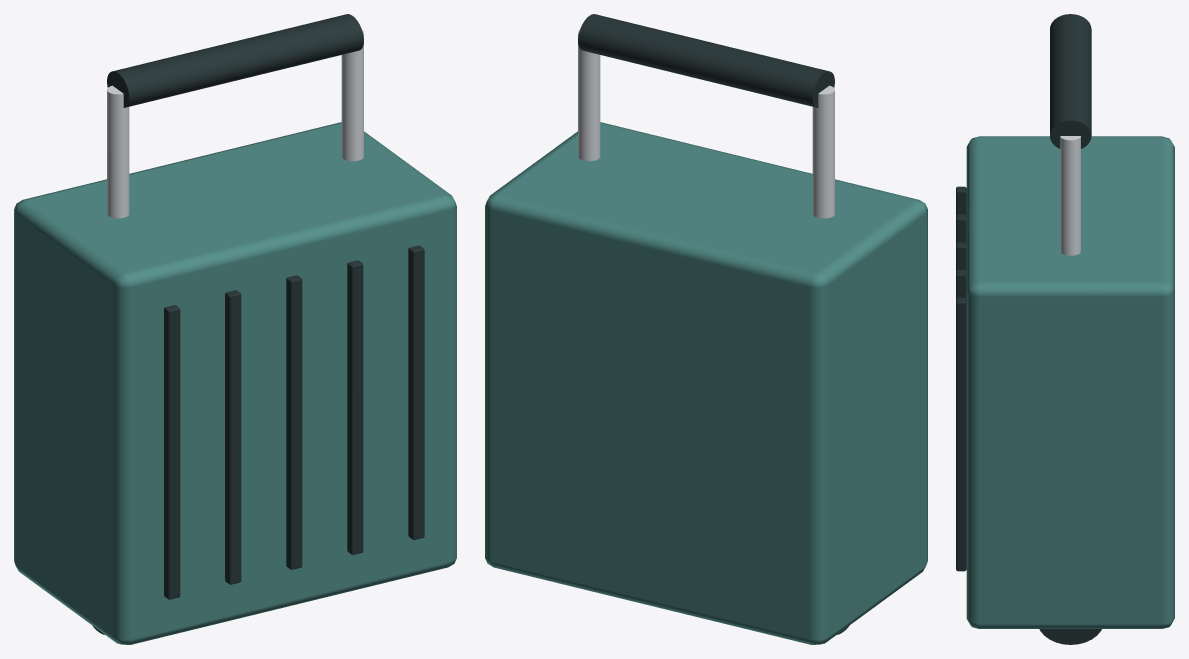
The model's file is wp-valise-a-roulettes.glb.
The picture shows the model from 3 angles, left to right: view 1: azimuth 30°, elevation 25°; view 2: azimuth 150°, elevation 25°; view 3: azimuth 270°, elevation 25°; orthographic projection. The views are drawn at different scales.
Visible parts, largest first — view 1: wp-valise-a-roulettes; view 2: wp-valise-a-roulettes; view 3: wp-valise-a-roulettes.
Part boxes in pixels (<box>): wp-valise-a-roulettes: <box>14,14,456,644</box>; wp-valise-a-roulettes: <box>485,14,927,644</box>; wp-valise-a-roulettes: <box>956,14,1174,644</box>.
Bounding box in the file's own units: 0.42 × 0.65 × 0.25.
